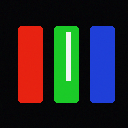4 line_v: (66, 32, 70, 80)
